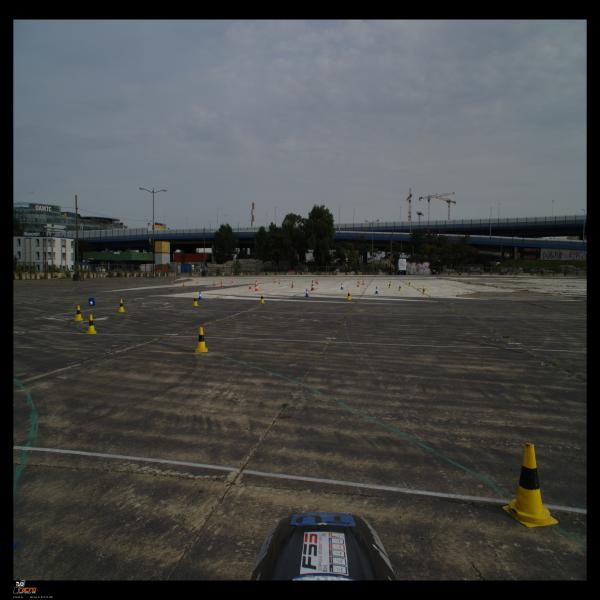blue_cone: (88, 298, 95, 306), (198, 291, 203, 300), (305, 289, 309, 297), (374, 286, 378, 294), (340, 284, 343, 290)
large_orange_cone: (254, 280, 259, 291), (311, 280, 314, 290)
orange_cone: (248, 282, 252, 289), (212, 280, 216, 286), (220, 282, 224, 288), (291, 281, 294, 288), (255, 280, 258, 287), (182, 281, 185, 287), (171, 280, 174, 285), (254, 280, 256, 286), (220, 279, 222, 284), (232, 278, 234, 283), (274, 278, 276, 283), (278, 279, 280, 284), (196, 279, 198, 283), (316, 280, 318, 284), (315, 279, 317, 283)
yellow_cone: (502, 443, 558, 528), (195, 327, 208, 352), (86, 314, 97, 334), (74, 305, 83, 321), (118, 299, 125, 312), (192, 295, 199, 306), (346, 291, 352, 300), (260, 294, 264, 304), (422, 287, 426, 295), (398, 285, 401, 291), (389, 282, 392, 288), (357, 281, 359, 287), (408, 282, 411, 286), (362, 280, 364, 285), (390, 280, 391, 285), (359, 279, 360, 283)
